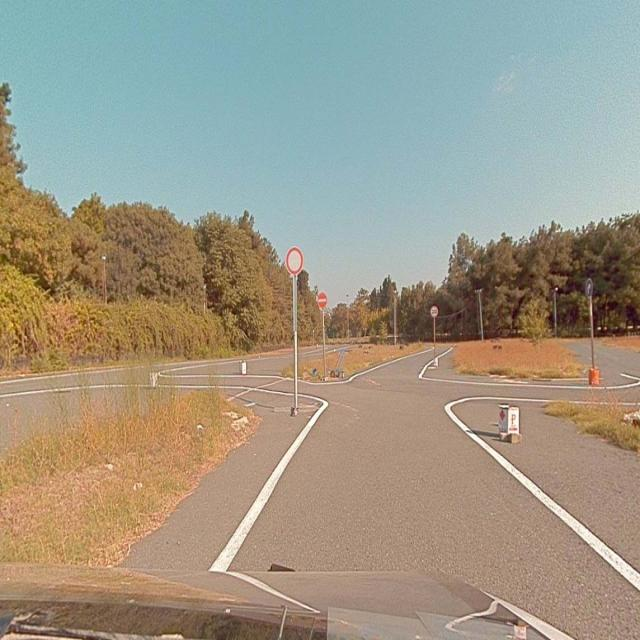girisyok: (317, 292, 327, 308)
